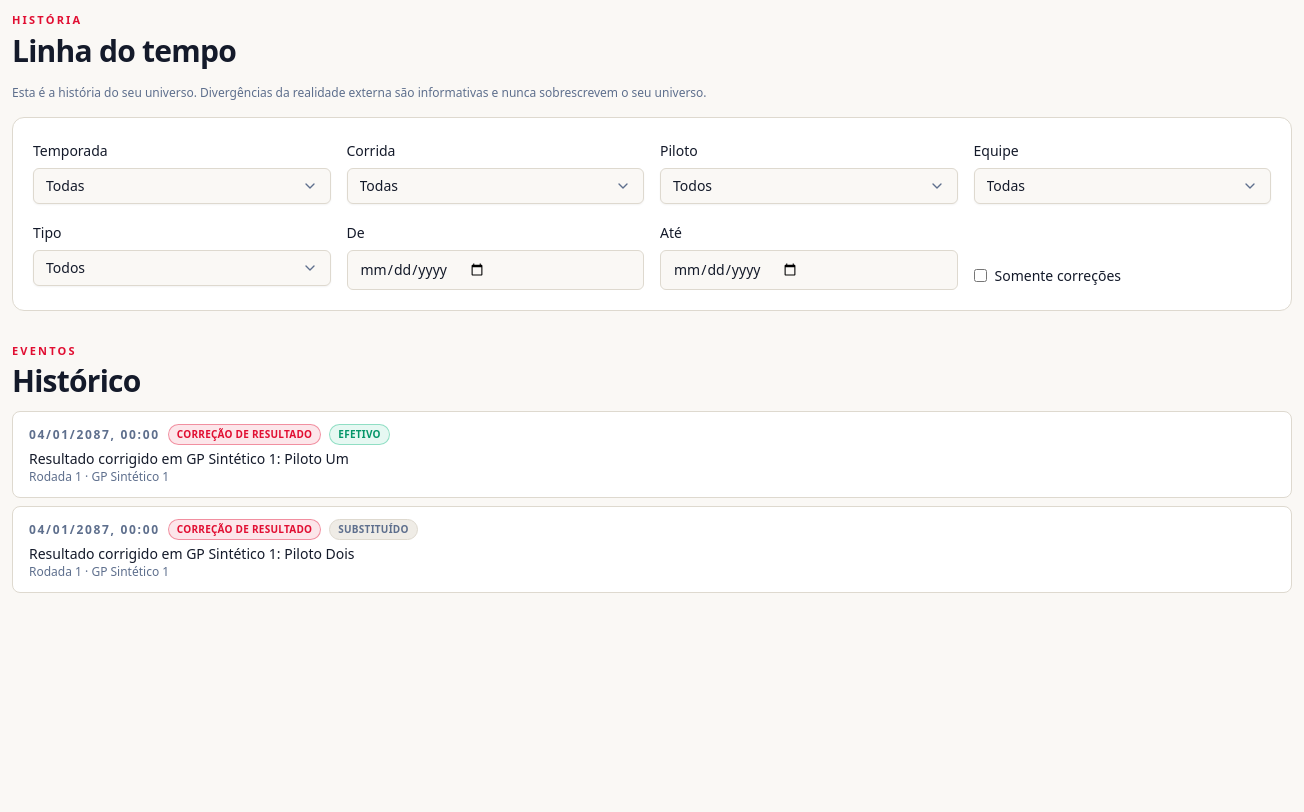
TimelineView › 9) filtros têm a opção Todas/Todos e restaurar remove o filtro
Expected: the text "Resultado corrigido em GP Sintético 1: Piloto Um" is shown, [29,449,349,468]
Step 1. Click the button named "Temporada" → (65, 185), box [33,168,330,204]
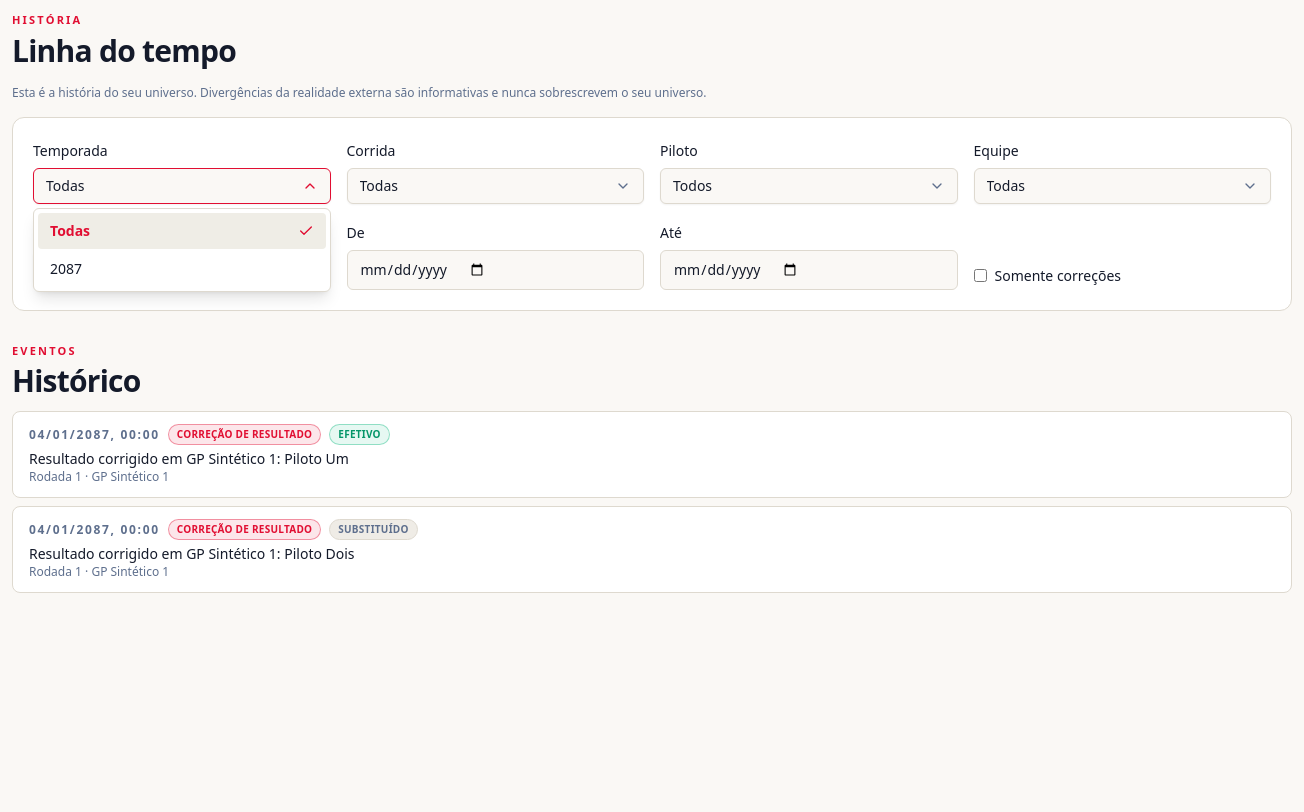
Expected: the option "Todas" is shown, [38,212,326,248]
Step 2. Click the option "2087" → (66, 268), box [50,258,82,278]
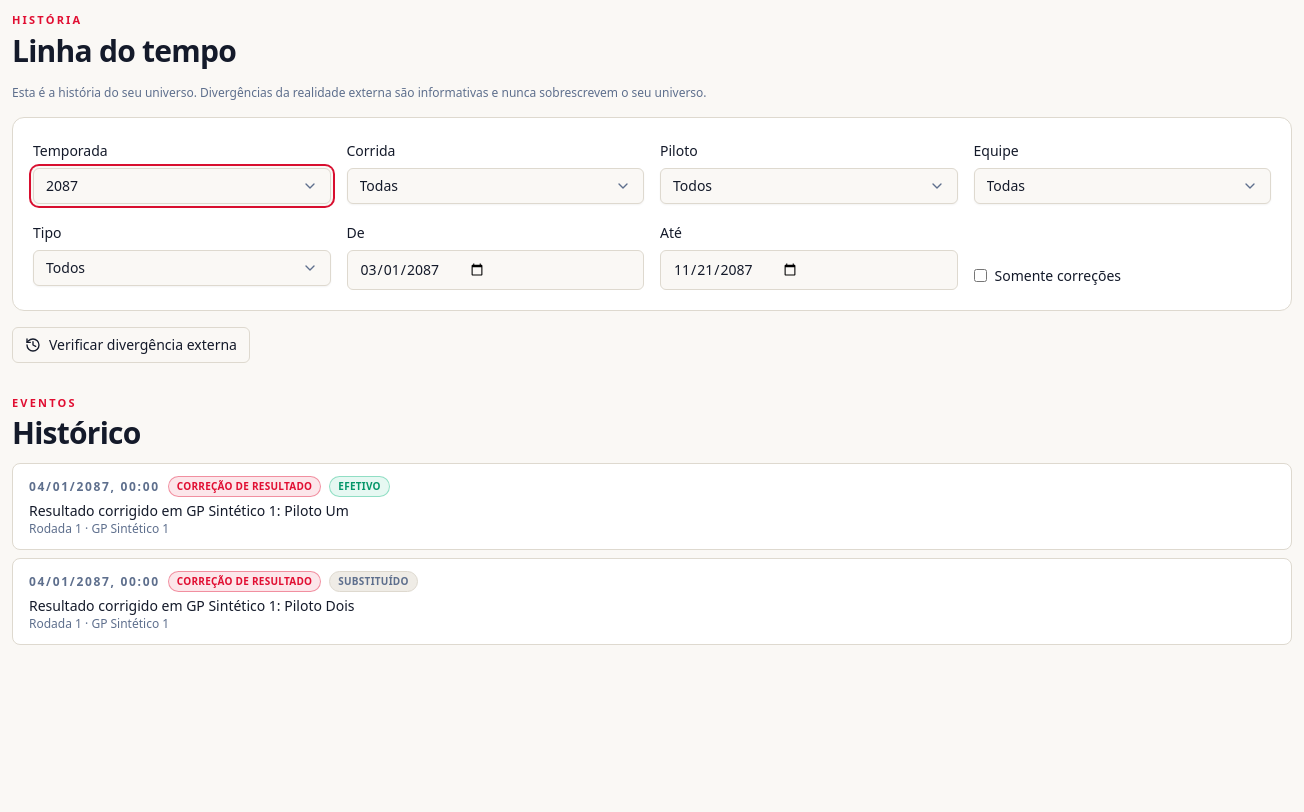
Step 3. Click the button named "Temporada" → (62, 185), box [33,168,330,204]
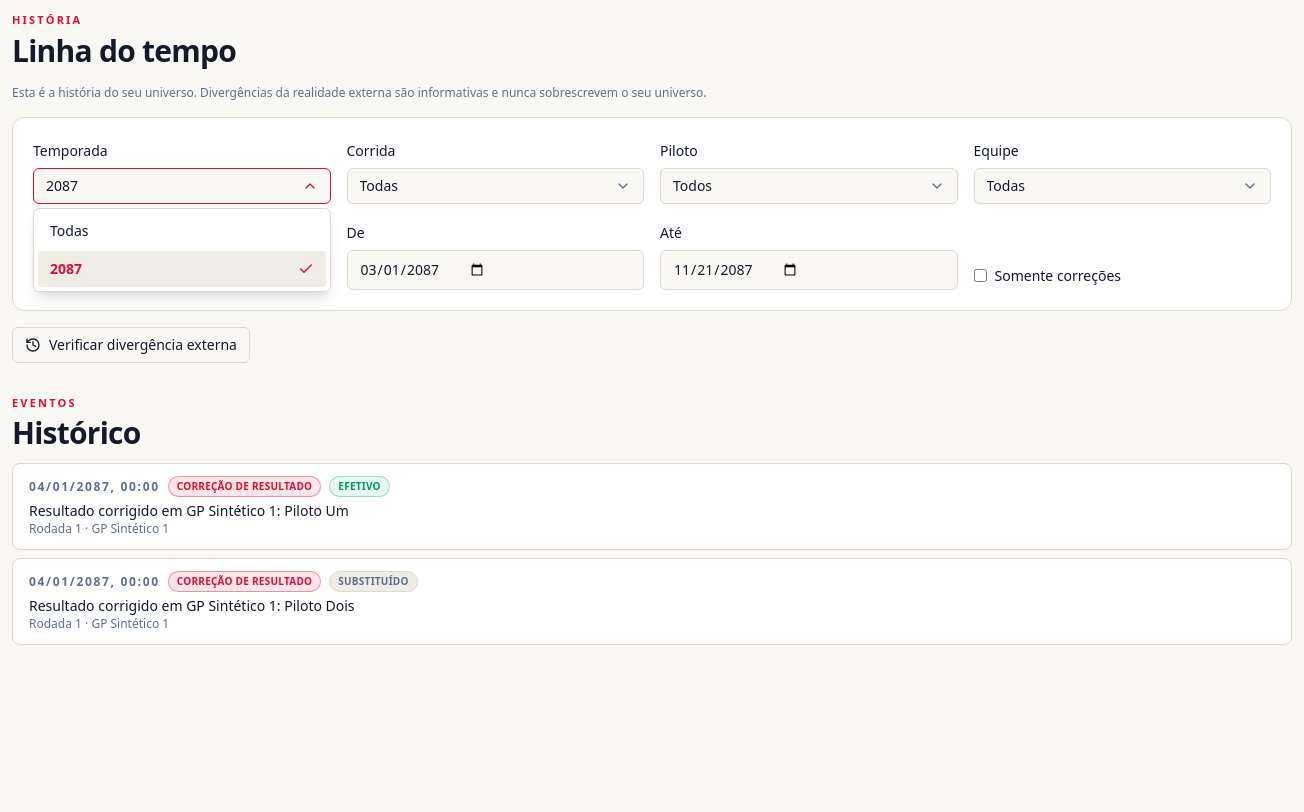
Step 4. Click the option "Todas" → (69, 230), box [50,220,88,240]
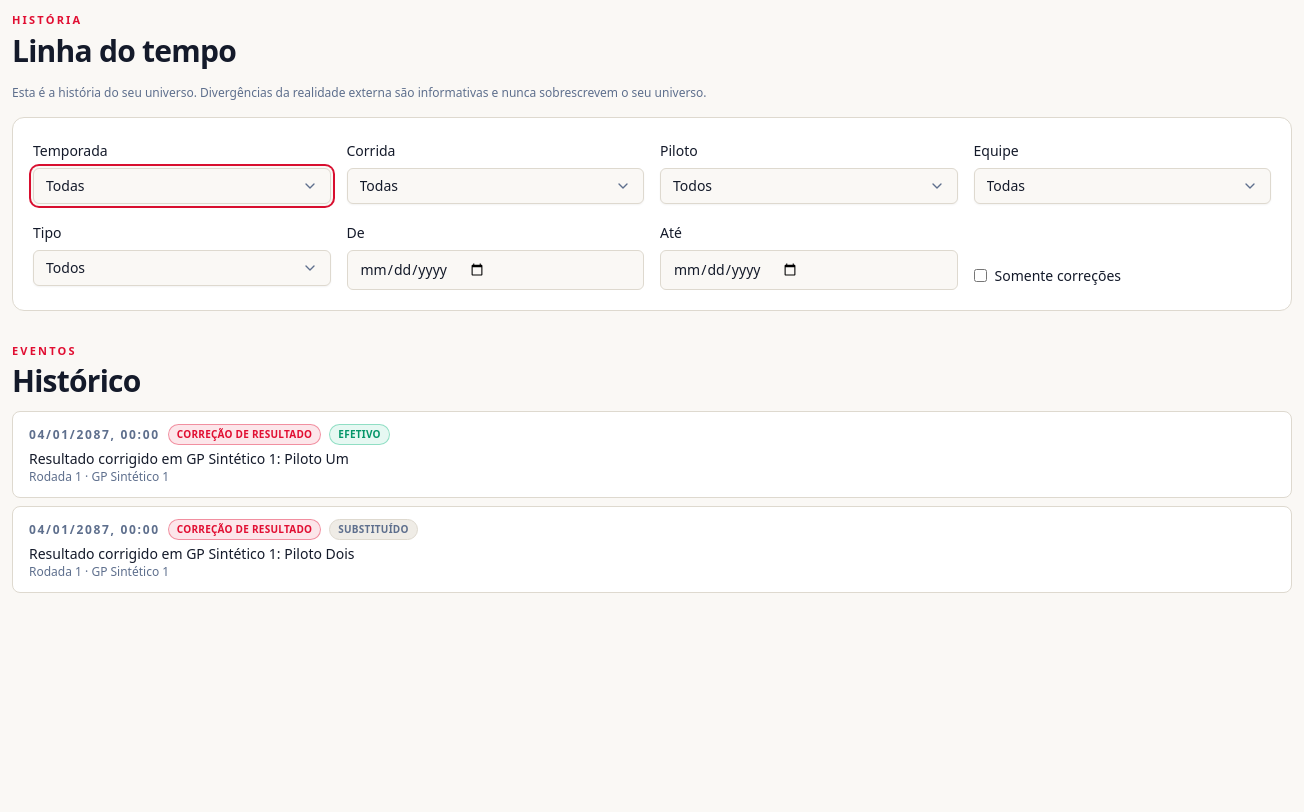
Step 5. Click the button named "Tipo" → (66, 267), box [33,250,330,286]
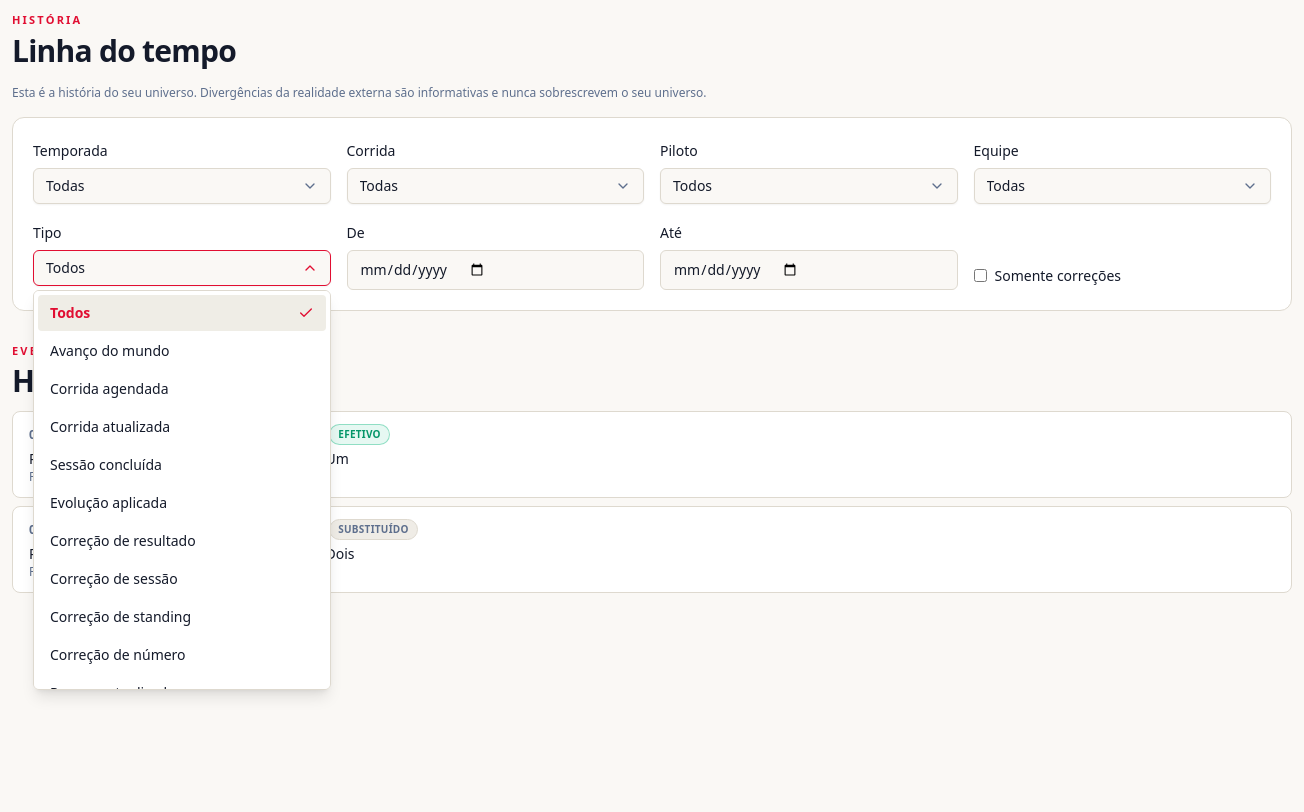
Expected: the option "Todos" is shown, [38,294,326,330]
